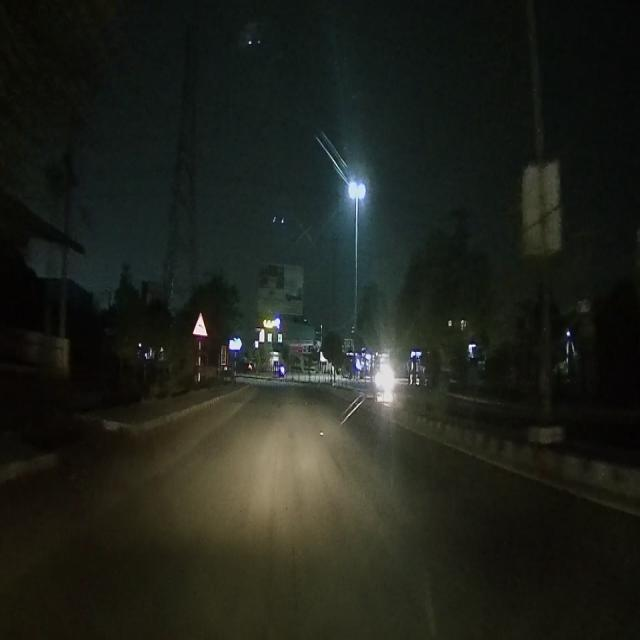left-hand-curve: (194, 308, 207, 340)
